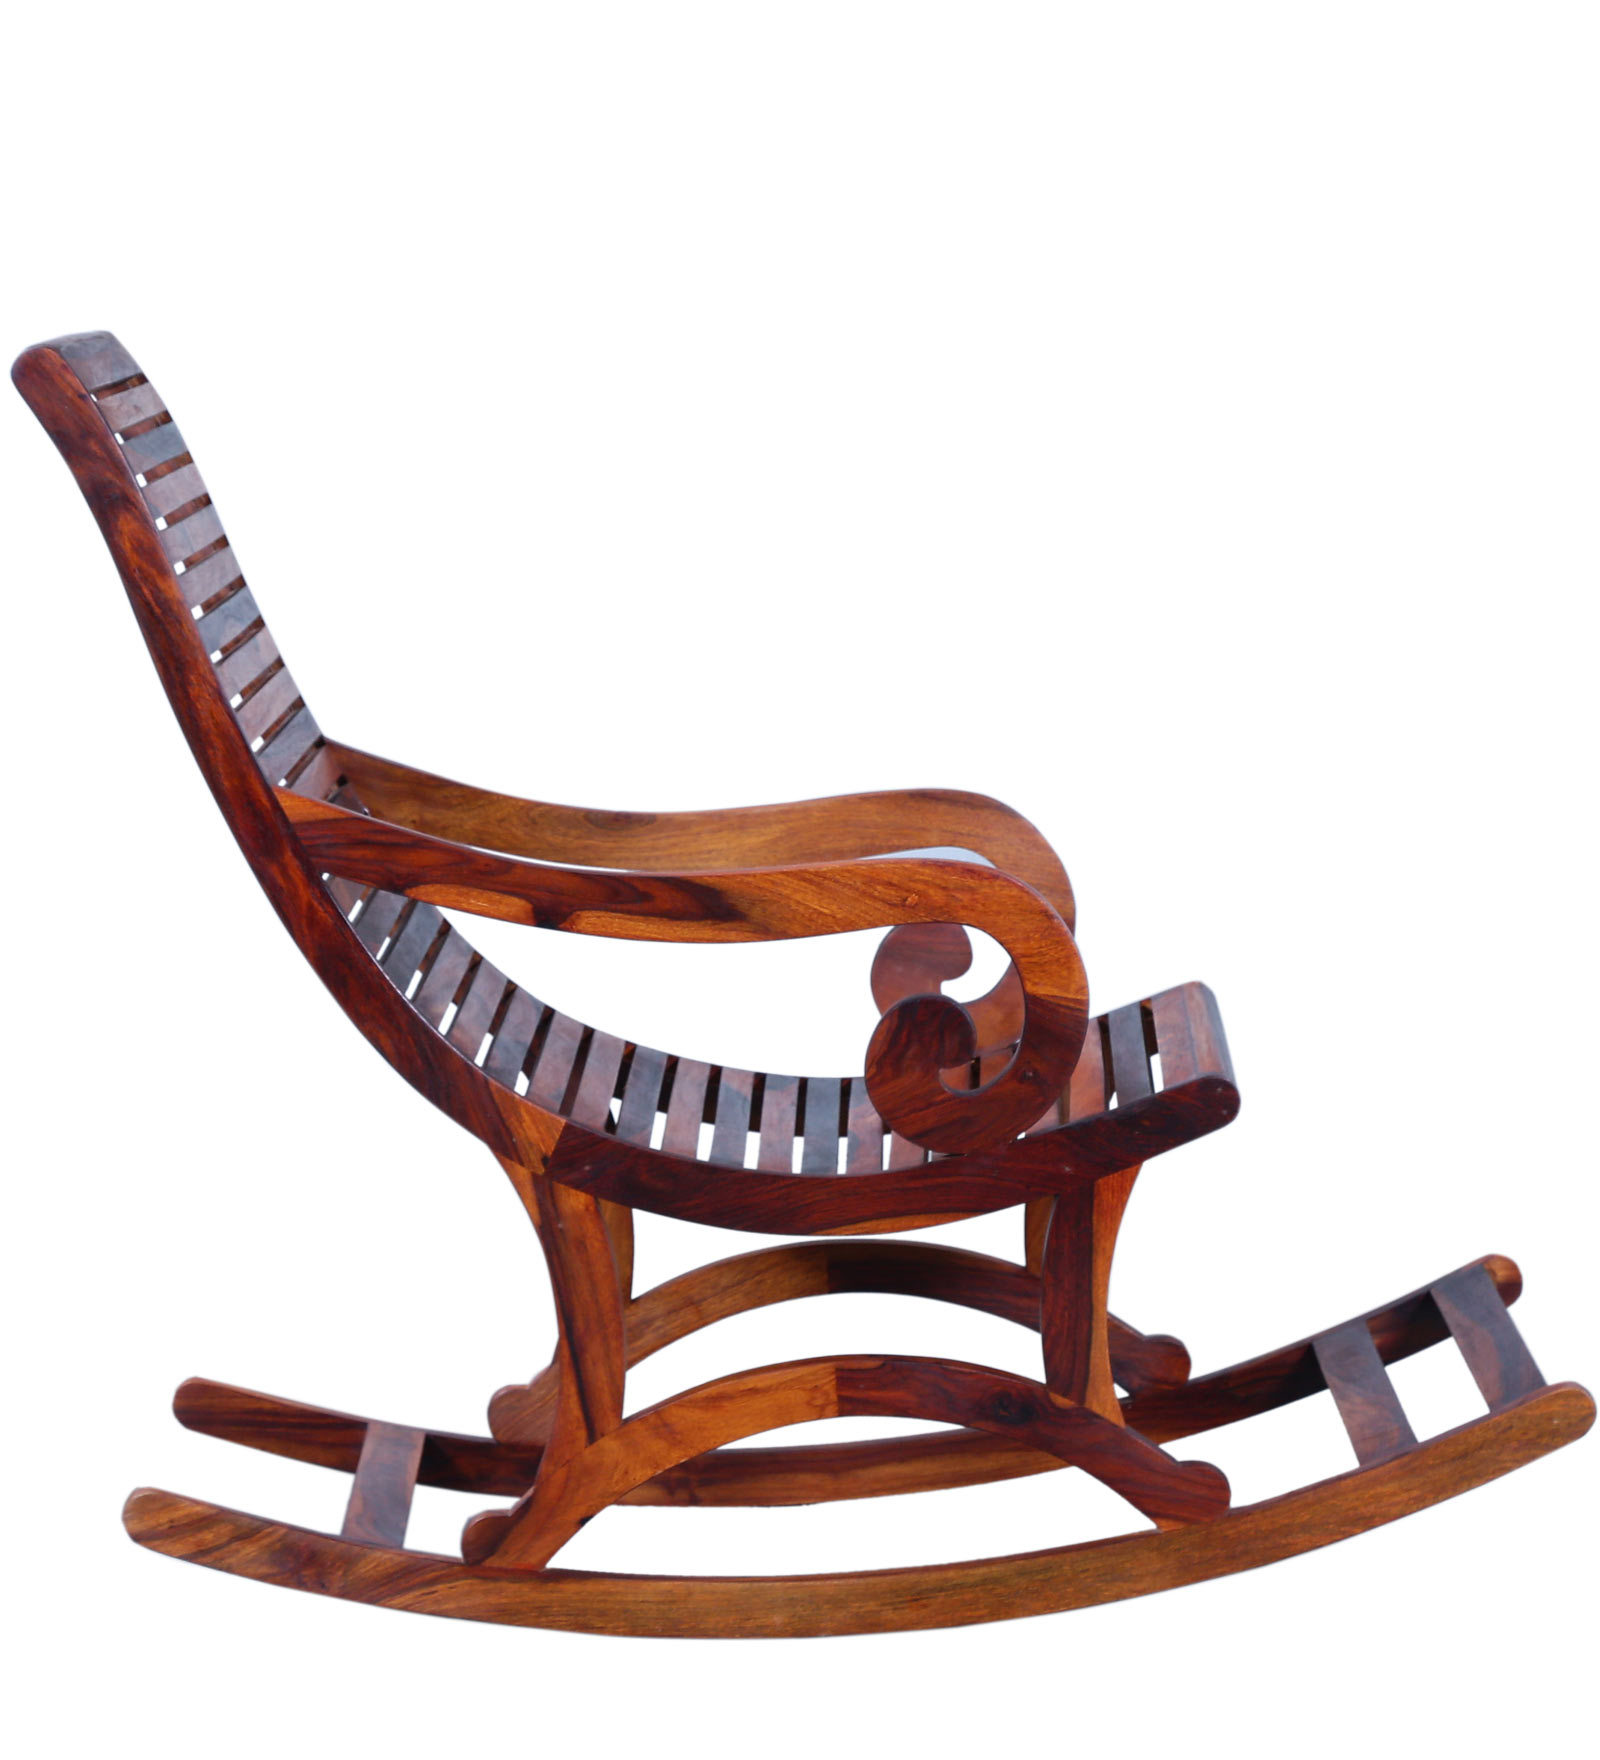Wellesley Rocking Chair in Honey Oak Finish by Amberville: (11, 288, 1592, 1660)
